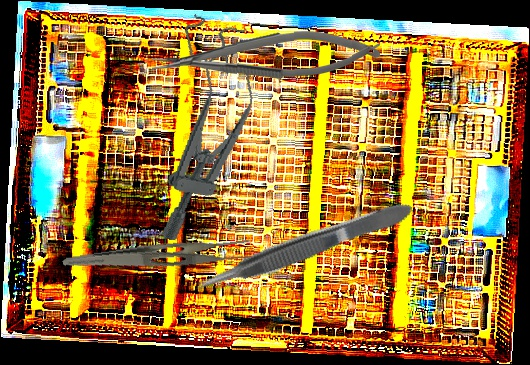Dressing Forceps: (61, 229, 265, 289)
Needle Holder: (151, 29, 381, 81)
Speculum: (145, 13, 267, 250)
Tissue Forceps: (189, 198, 418, 299)
